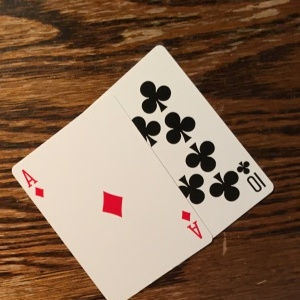card: (99, 44, 275, 224)
